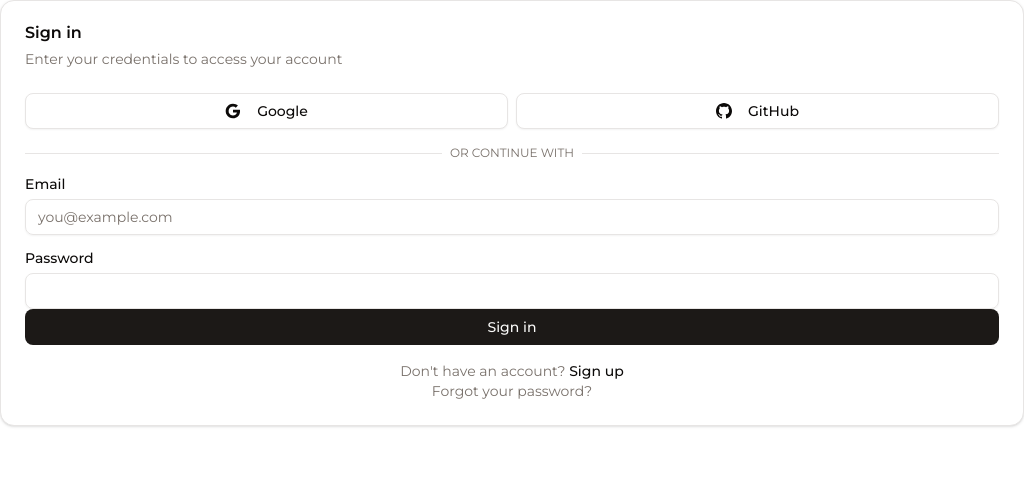
Test case: LoginForm › shows Supabase error and does not redirect on failure
The image size is (1024, 496).
Type "wrong@example.com" into the field labelled "Email" at coordinates (512, 217), box [25, 199, 999, 235]
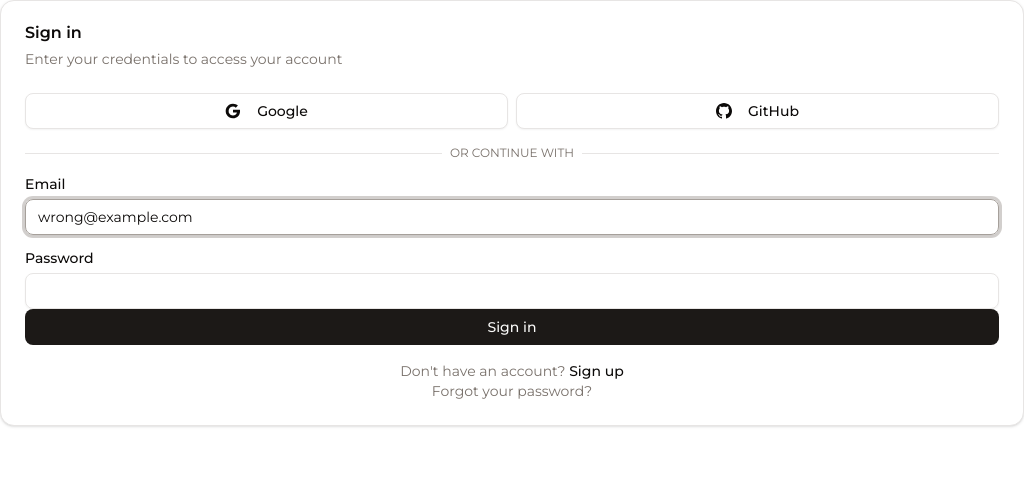
Type "wrongpass" into the password field labelled "Password" at coordinates (512, 291), box [25, 273, 999, 309]
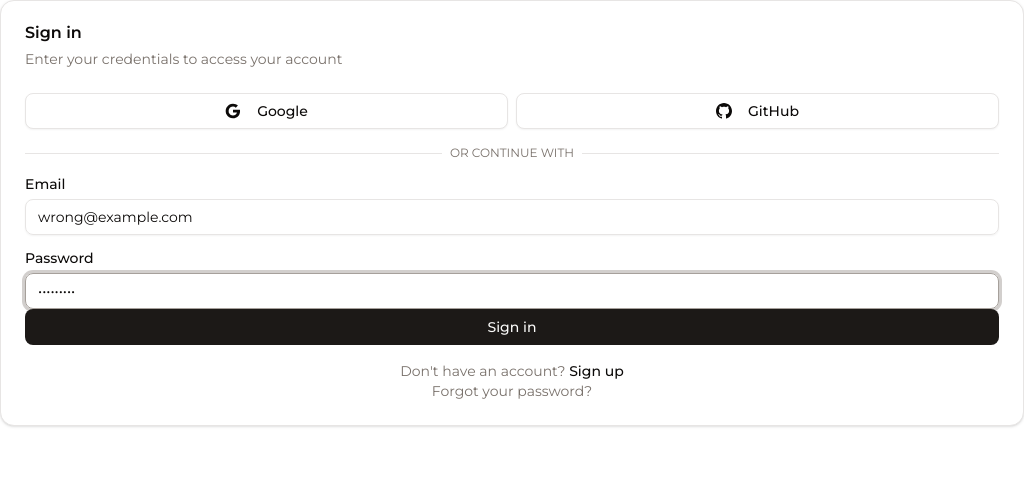
Click the button "Sign in" at coordinates (512, 327), box [25, 309, 999, 345]
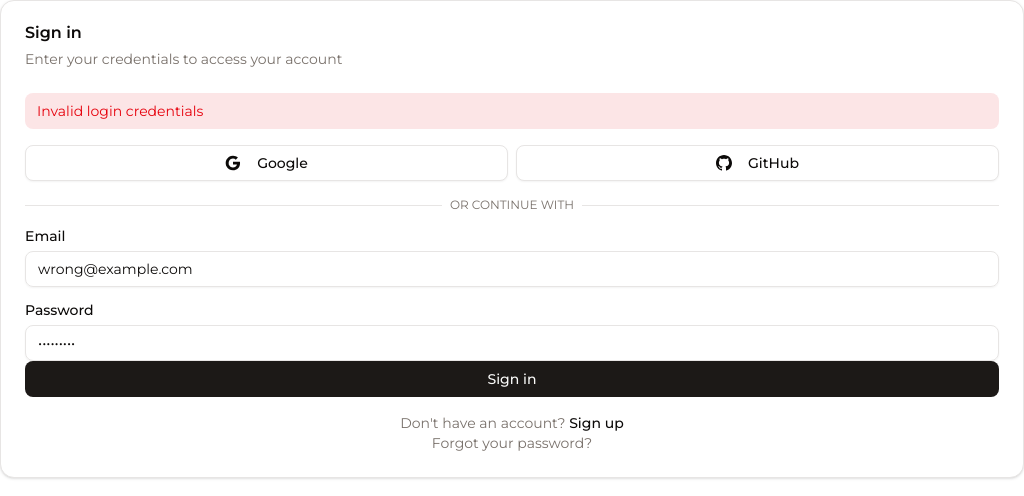
expect the text "Invalid login credentials" is shown: met, box [25, 93, 999, 129]
